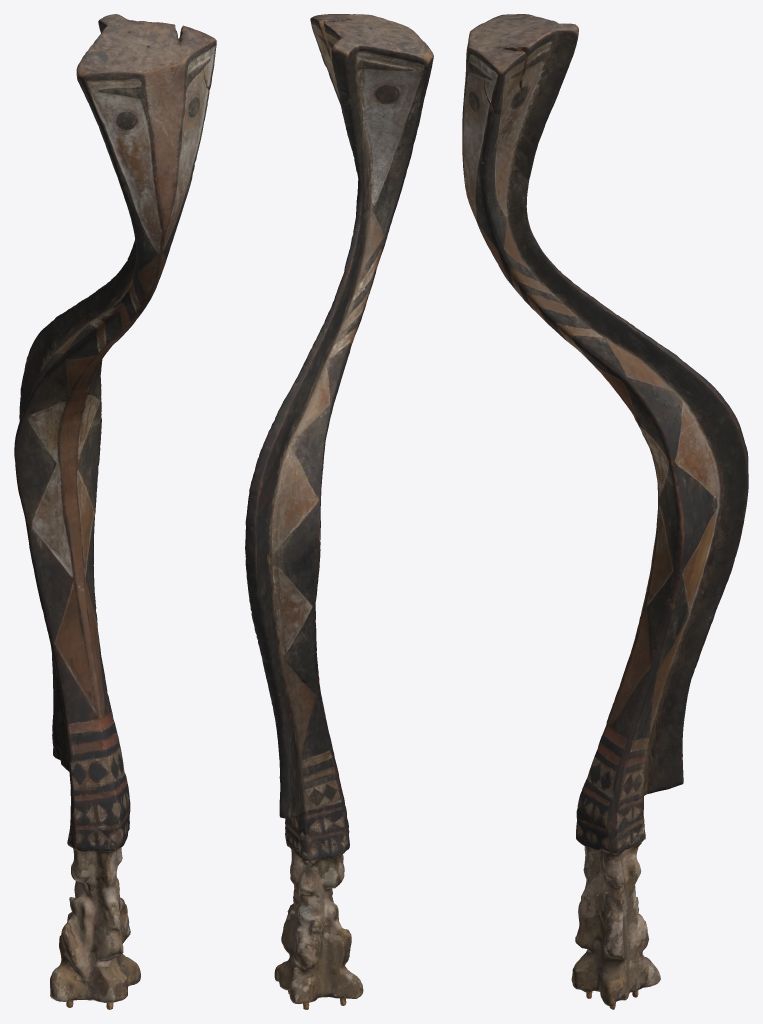
File: preview.glb
The picture shows the model from 3 angles, left to right: view 1: azimuth 30°, elevation 25°; view 2: azimuth 150°, elevation 25°; view 3: azimuth 270°, elevation 25°; orthographic projection. The views are drawn at different scales.
Visible parts, largest first — view 1: Object_2; view 2: Object_2; view 3: Object_2.
Part boxes in pixels (x1,y1,x2,y2): Object_2: [14, 14, 216, 1009]; Object_2: [245, 14, 433, 1009]; Object_2: [462, 14, 748, 1009].
Bounding box in the file's own units: 0.2087 × 1.5 × 0.403.
1 material, 1 textured.
